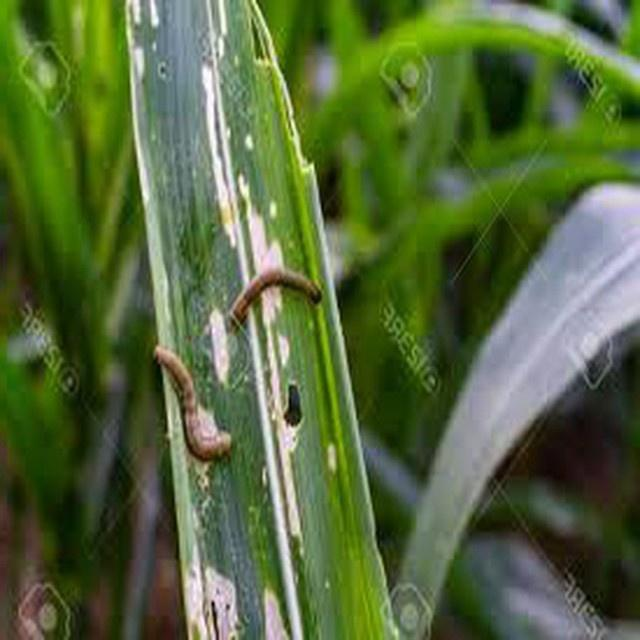worm: (153, 344, 233, 463), (228, 267, 323, 333)
